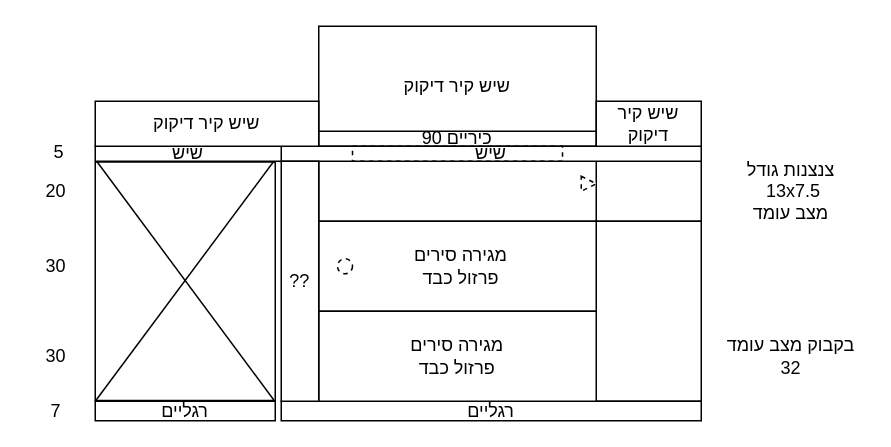
Some shapes in this 891 by 447 pixel diagram are drawn without their labels. The box of each missing label's shape, as (x1, y1, x2, y2) in pixels:
מגירה בקבוקים: (595, 220, 701, 401)
מגירה כלי מטבח (כפות/ושות): (317, 160, 604, 221)
מגירה תבלינים: (595, 160, 701, 221)
